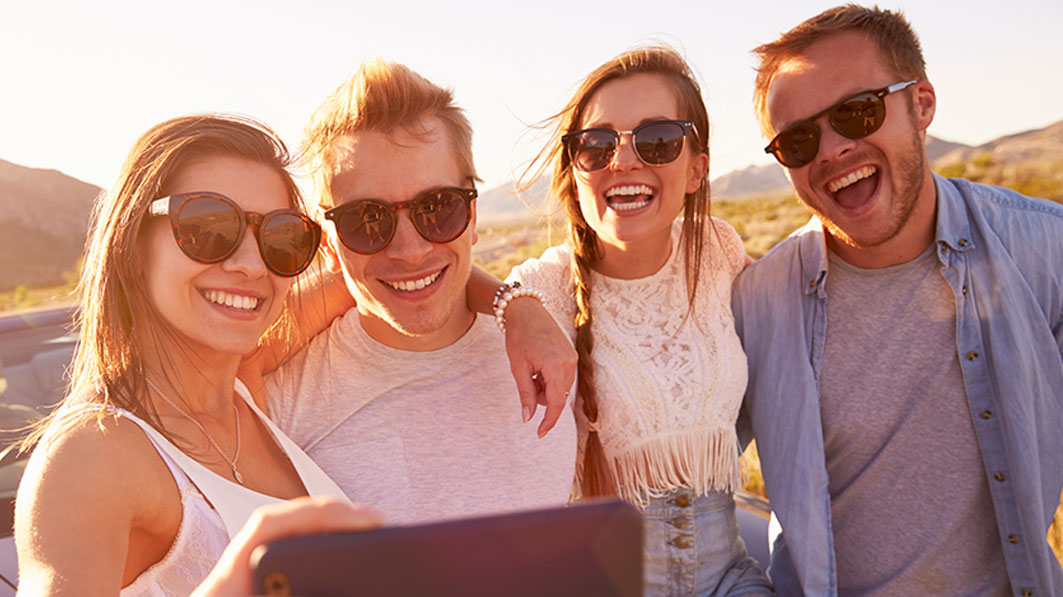bare: (779, 126, 924, 247), (140, 250, 294, 357), (339, 232, 479, 338), (575, 154, 688, 243)
